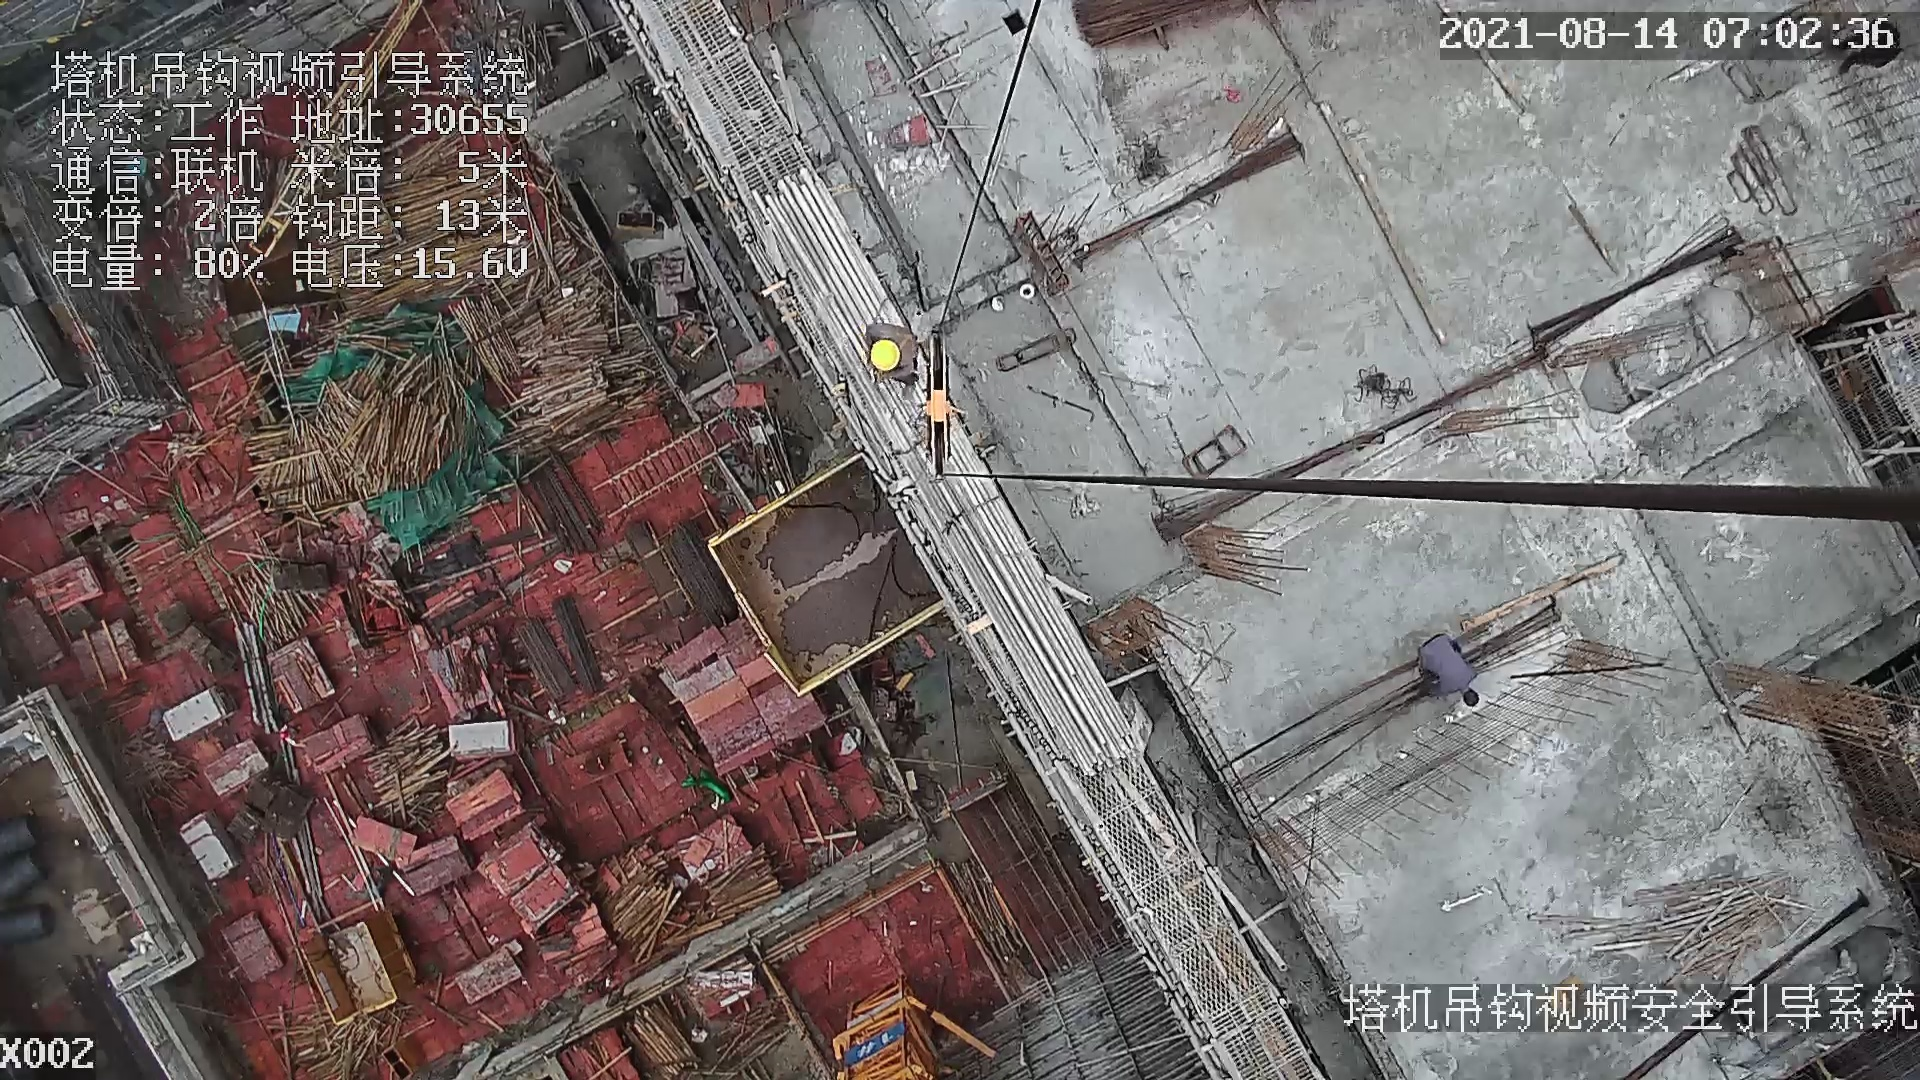helmet: (871, 336, 901, 371)
hook: (915, 332, 973, 485)
person: (1418, 630, 1485, 708), (858, 322, 924, 390)
slogan: (840, 1019, 903, 1057)
